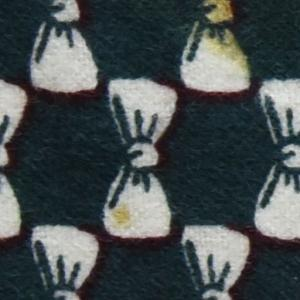Stain: (199, 1, 261, 77), (113, 199, 134, 229)
